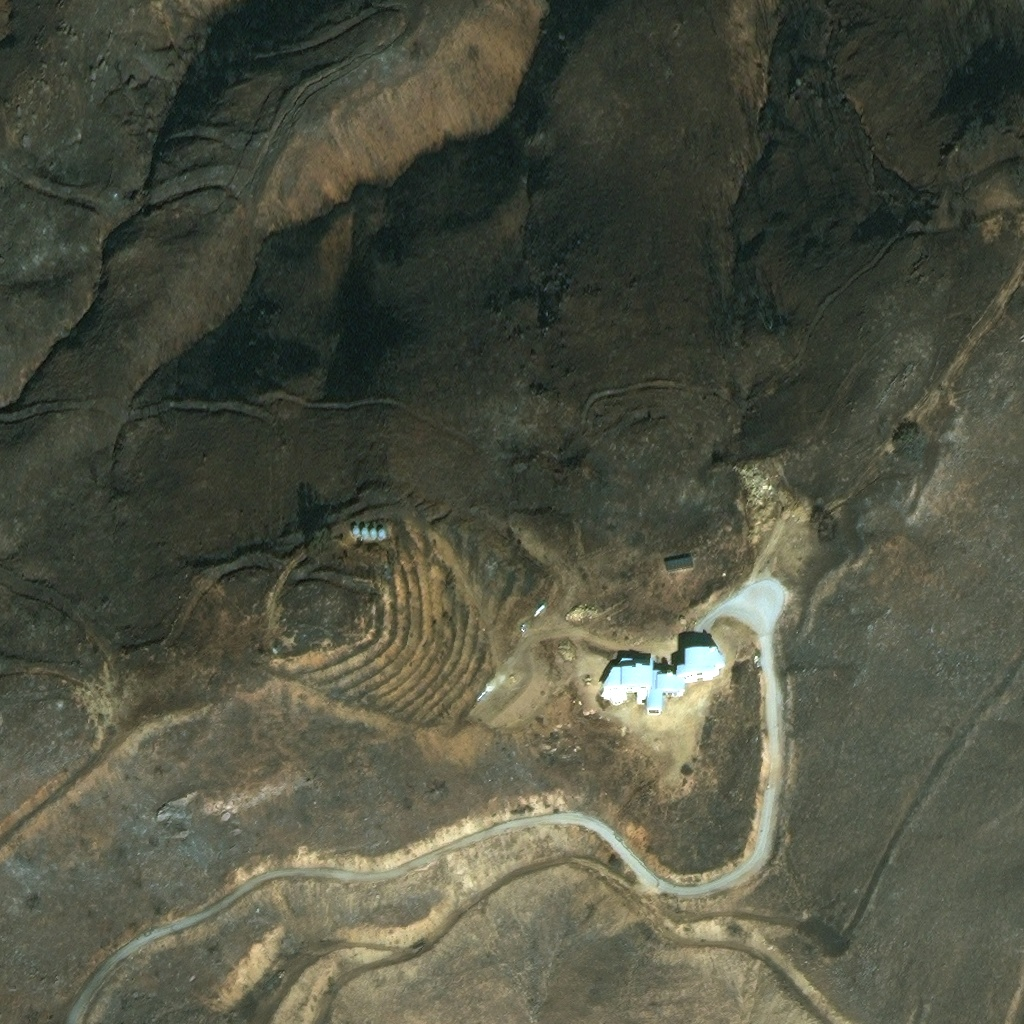0 no-damage: (598, 650, 724, 715), (662, 555, 694, 573), (375, 530, 385, 539), (359, 527, 368, 536), (350, 527, 359, 536), (367, 528, 375, 537)
